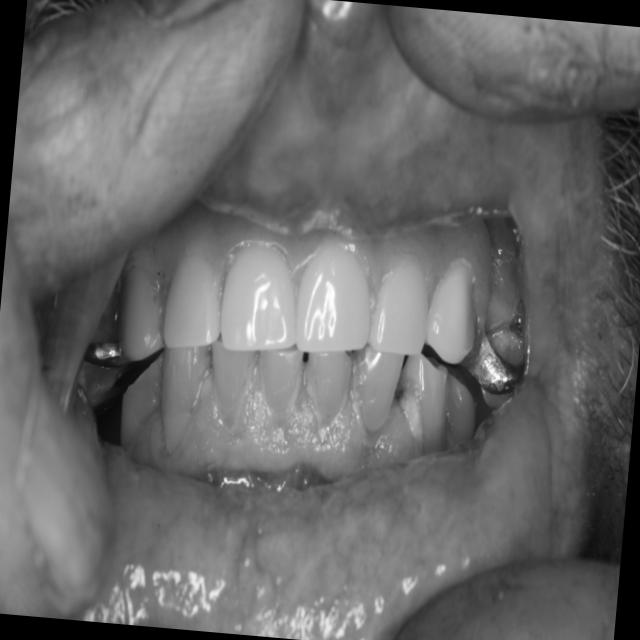tooth: (206, 242, 309, 362), (285, 232, 382, 358), (150, 243, 234, 355), (146, 336, 216, 470), (363, 251, 439, 369), (390, 335, 459, 463), (243, 331, 320, 440), (421, 252, 483, 375), (466, 294, 531, 408), (297, 333, 362, 447), (198, 332, 266, 440), (344, 336, 406, 451), (111, 263, 177, 369), (110, 347, 170, 463), (79, 271, 140, 379), (441, 368, 484, 452), (73, 357, 129, 415)
